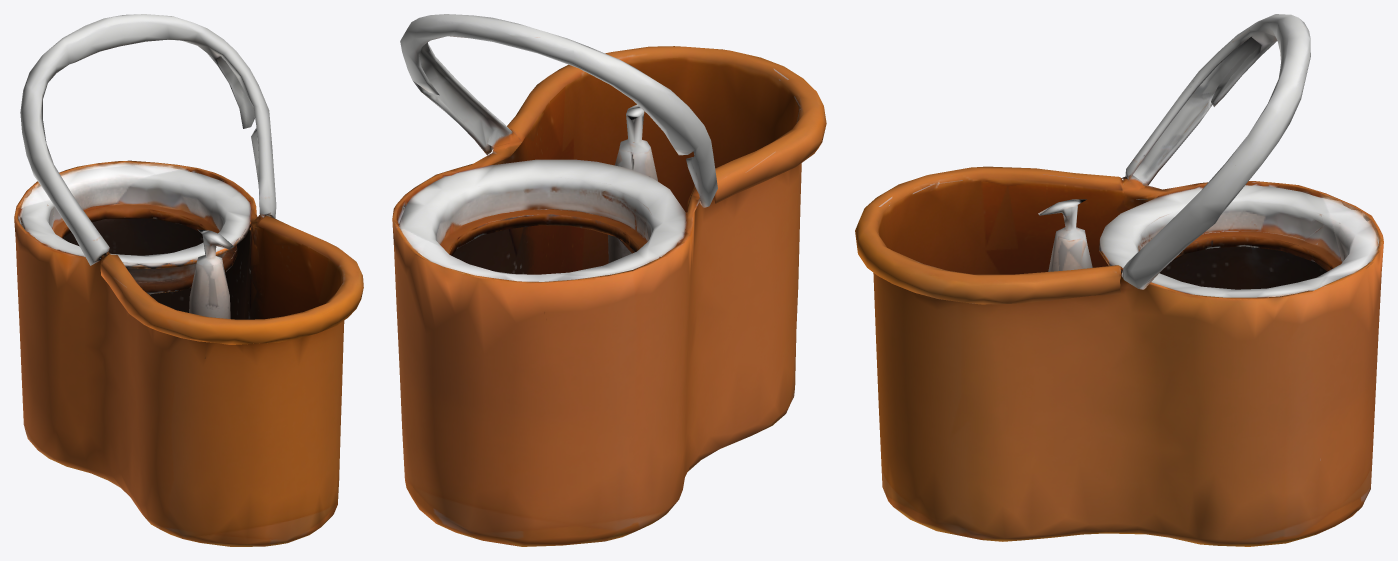
Rendered from Meshy_AI_Foot_Spa_Duo_0114131525_texture.fbx.
The picture shows the model from 3 angles, left to right: view 1: azimuth 30°, elevation 25°; view 2: azimuth 150°, elevation 25°; view 3: azimuth 270°, elevation 25°; orthographic projection. The views are drawn at different scales.
Visible parts, largest first — view 1: Mesh_0; view 2: Mesh_0; view 3: Mesh_0.
Part boxes in pixels (left/top/right/bottom): Mesh_0: left=14, top=14, right=363, bottom=546; Mesh_0: left=392, top=14, right=826, bottom=546; Mesh_0: left=855, top=14, right=1383, bottom=546.
Size of the model in its own units: 112 by 185 by 191.
1 material, 1 textured.
